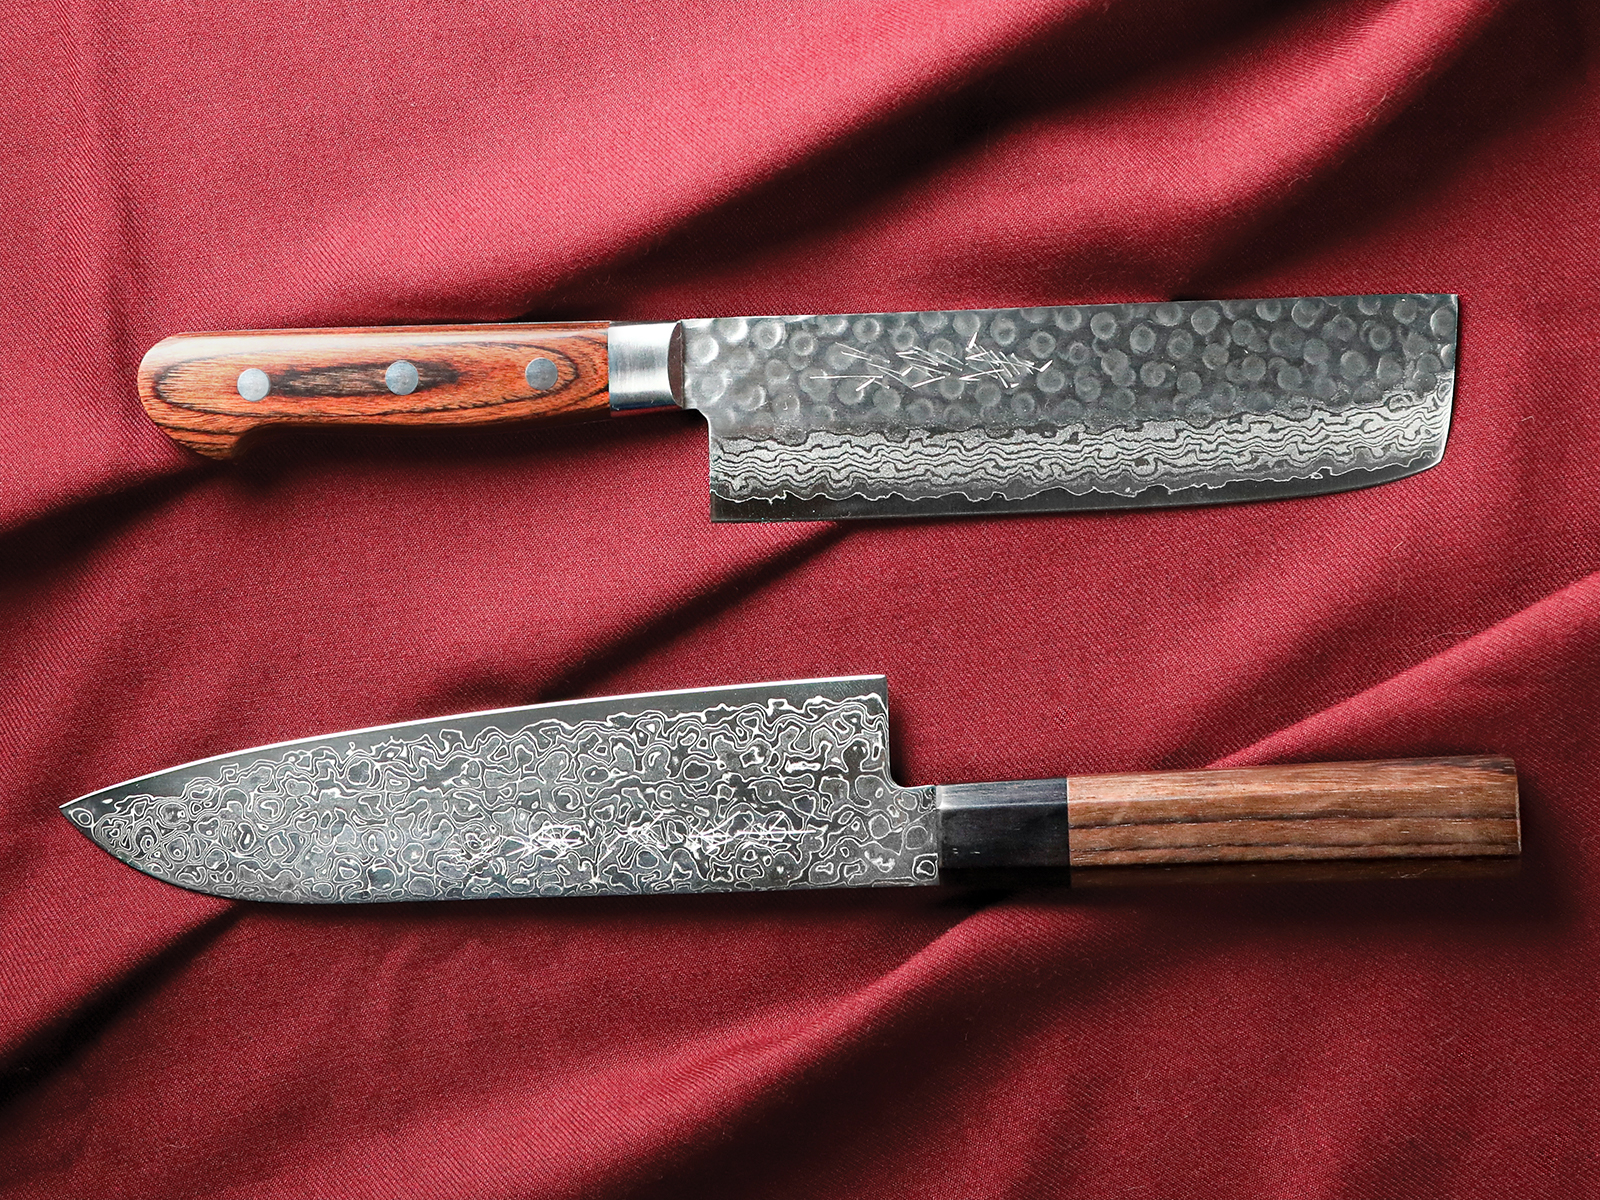knife: (52, 676, 1533, 913), (129, 288, 1468, 530)
